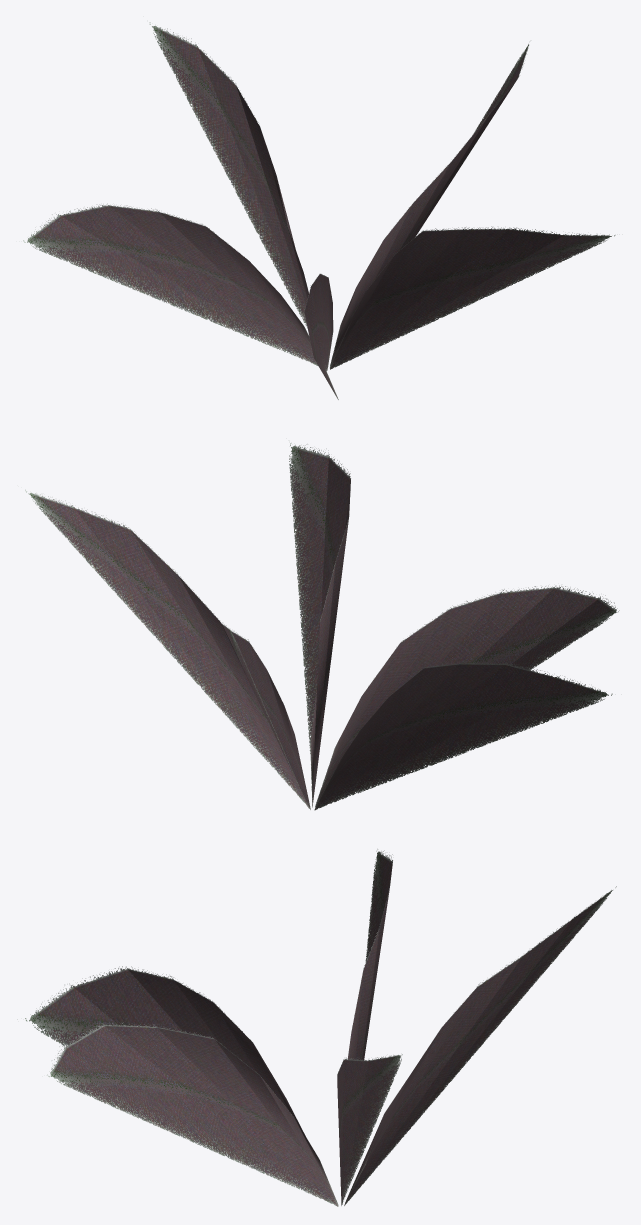
Rendered from alphatest.obj.
The picture shows the model from 3 angles, top to bottom: view 1: azimuth 30°, elevation 25°; view 2: azimuth 150°, elevation 25°; view 3: azimuth 270°, elevation 25°; orthographic projection. The views are drawn at different scales.
Size of the model in its own units: 15.8 by 7.79 by 14.28.
